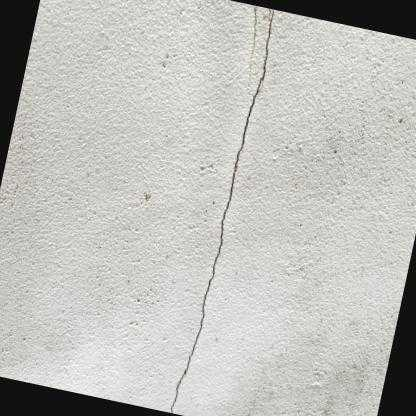crack: (170, 8, 275, 413), (248, 5, 258, 84)
